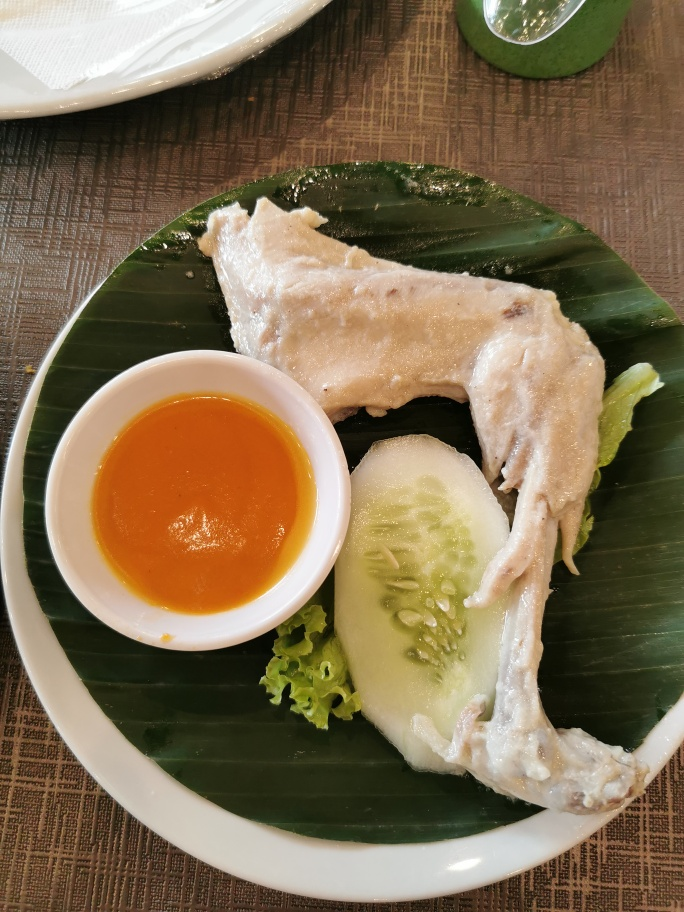ayam pop: (208, 198, 648, 812)
extra: (63, 342, 504, 791)
